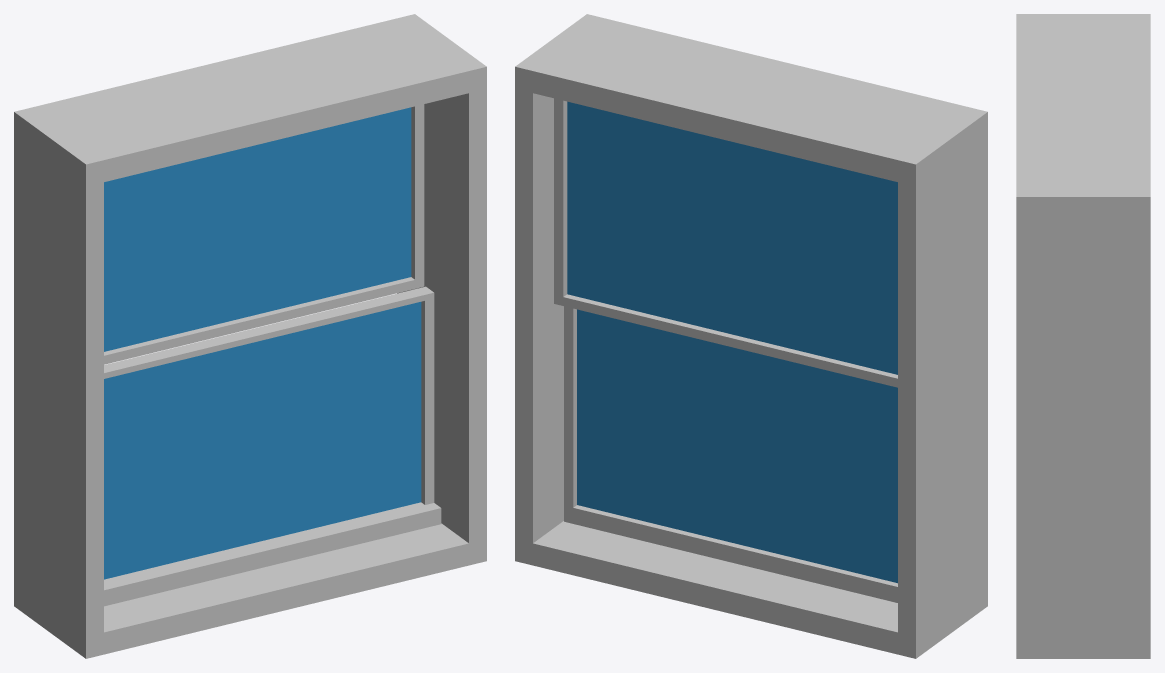
Rendered from windows1.fbx.
The picture shows the model from 3 angles, left to right: view 1: azimuth 30°, elevation 25°; view 2: azimuth 150°, elevation 25°; view 3: azimuth 270°, elevation 25°; orthographic projection. The views are drawn at different scales.
Visible parts, largest first — view 1: windows1, windows1_door; view 2: windows1, windows1_door; view 3: windows1.
Boxes of the visible parts, left/top/right/bottom form: windows1: left=14, top=14, right=486, bottom=658; windows1_door: left=104, top=286, right=441, bottom=606; windows1: left=515, top=14, right=987, bottom=658; windows1_door: left=564, top=306, right=897, bottom=602; windows1: left=1016, top=14, right=1150, bottom=658.
Size of the model in its own units: 275 by 324 by 85.64.
